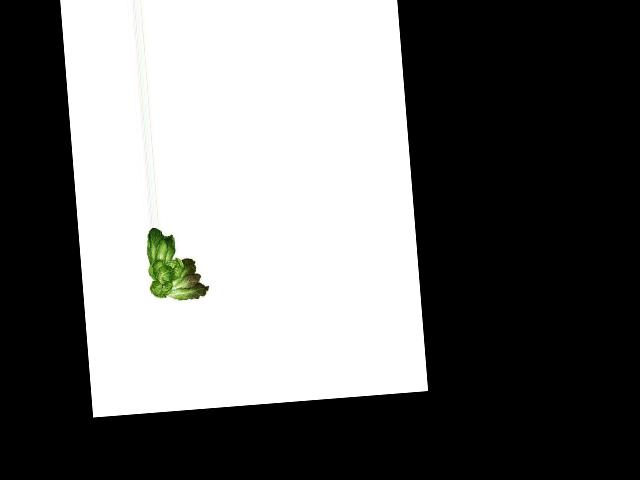lettuce: (141, 223, 213, 304)
